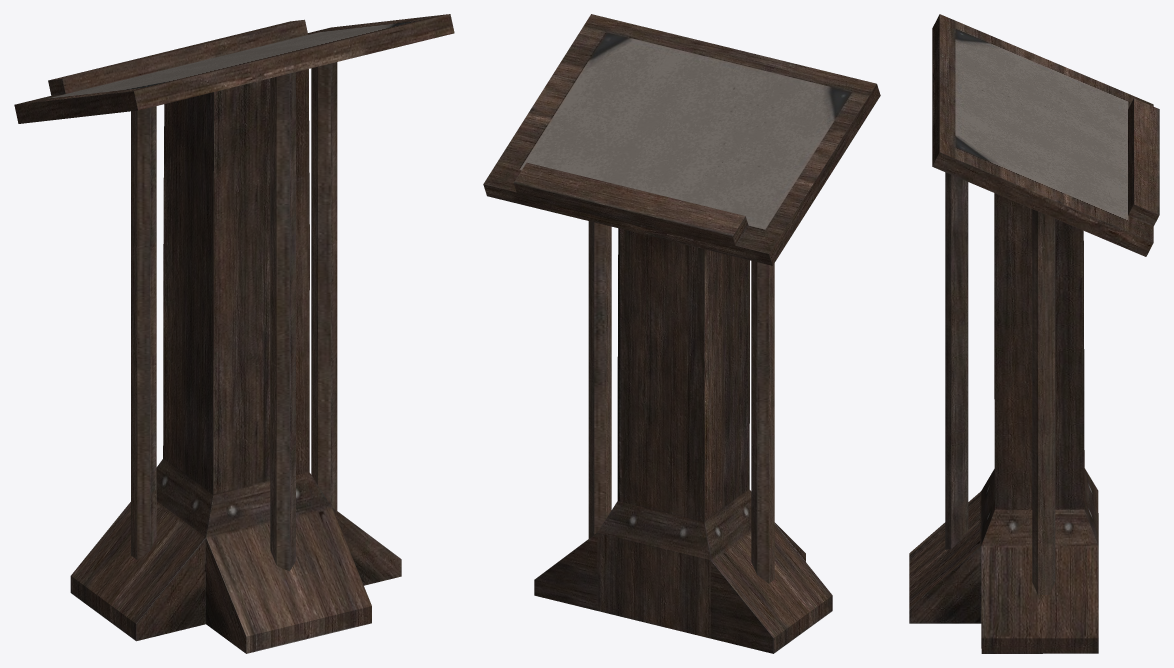
Rendered from podium.glb.
3 renders of one model, left to right at view 1: azimuth 30°, elevation 25°; view 2: azimuth 150°, elevation 25°; view 3: azimuth 270°, elevation 25°, orthographic. The views are drawn at different scales.
Parts seen in each view (by area): view 1: Podium; view 2: Podium; view 3: Podium.
Boxes of the visible parts, x1,y1,x2,y2 form: Podium: (14, 14, 454, 653); Podium: (483, 14, 880, 653); Podium: (909, 14, 1159, 653).
Size of the model in its own units: 77.53 by 134 by 59.35.
Materials: 1 (1 with a texture image).
